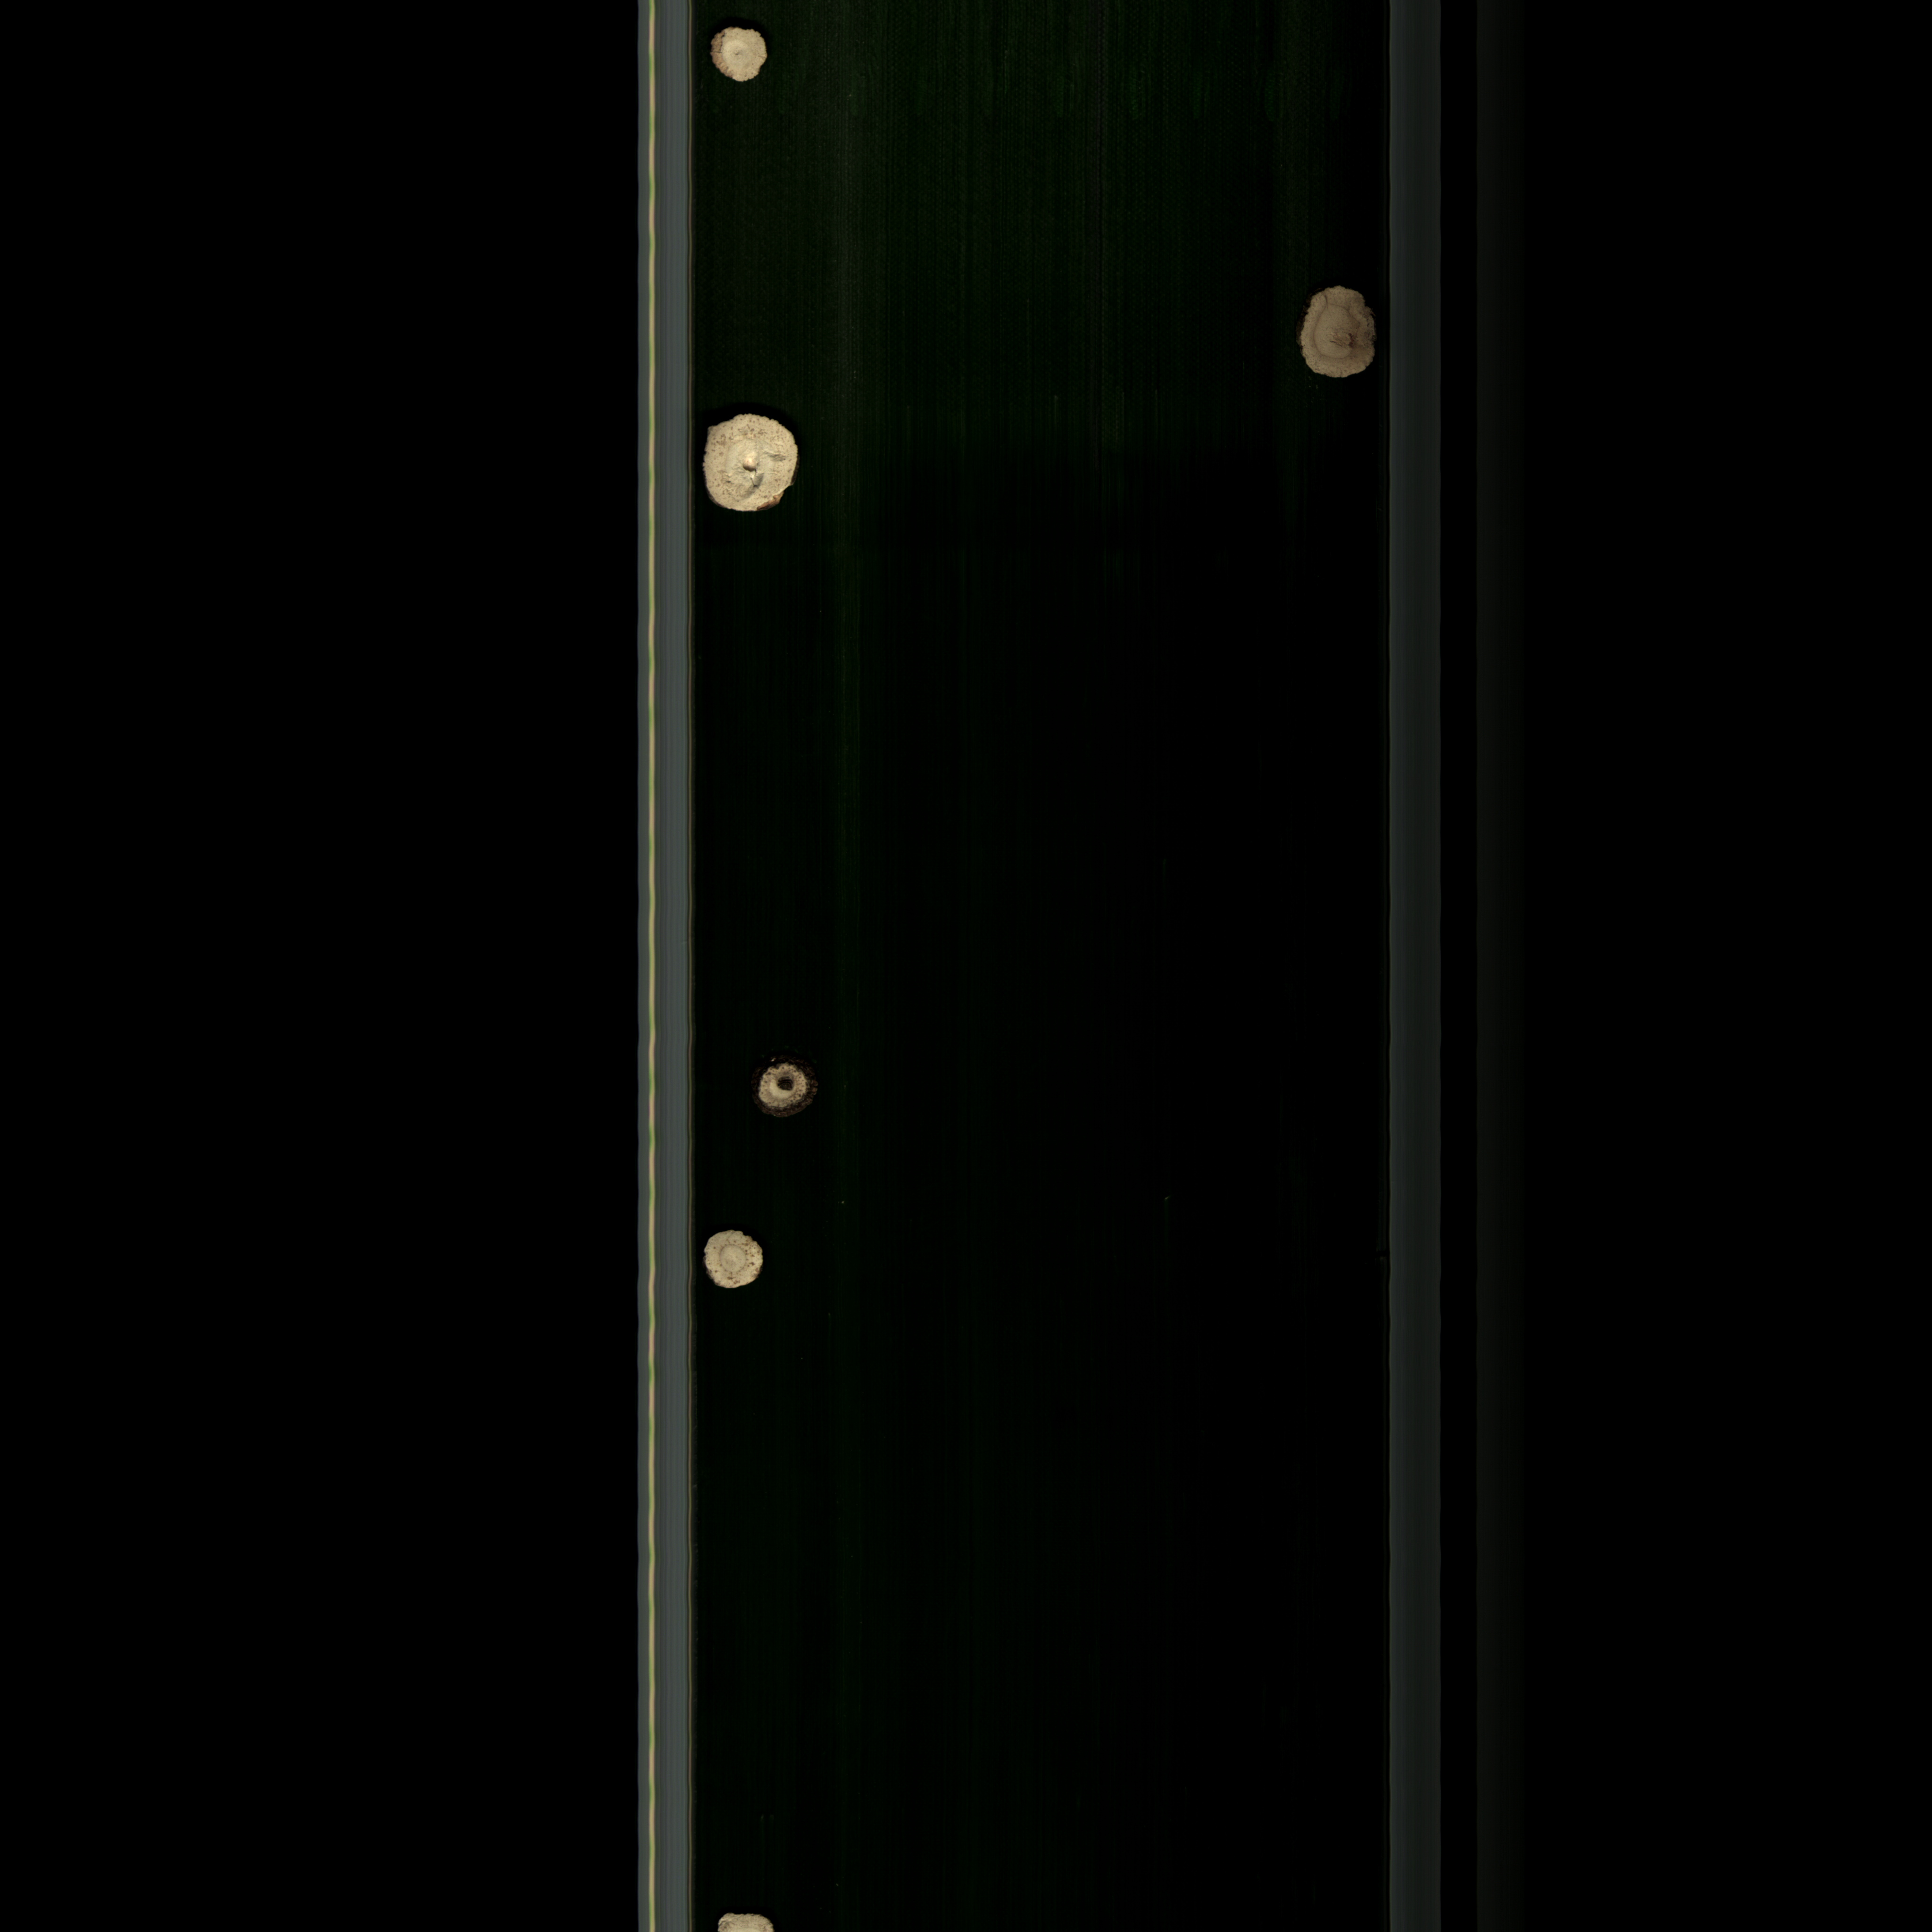hole: (697, 407, 809, 524)
moldy: (1300, 280, 1384, 389), (748, 1042, 824, 1129)
